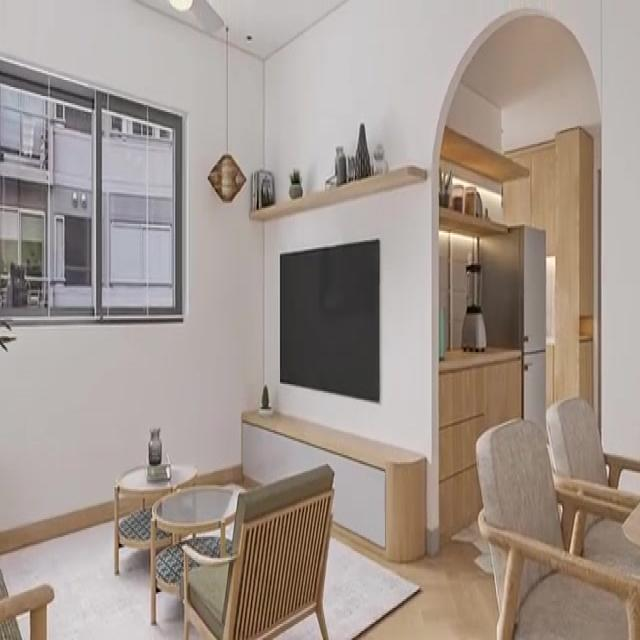obstacle: (474, 416, 639, 638), (181, 462, 335, 638), (477, 222, 547, 439)
